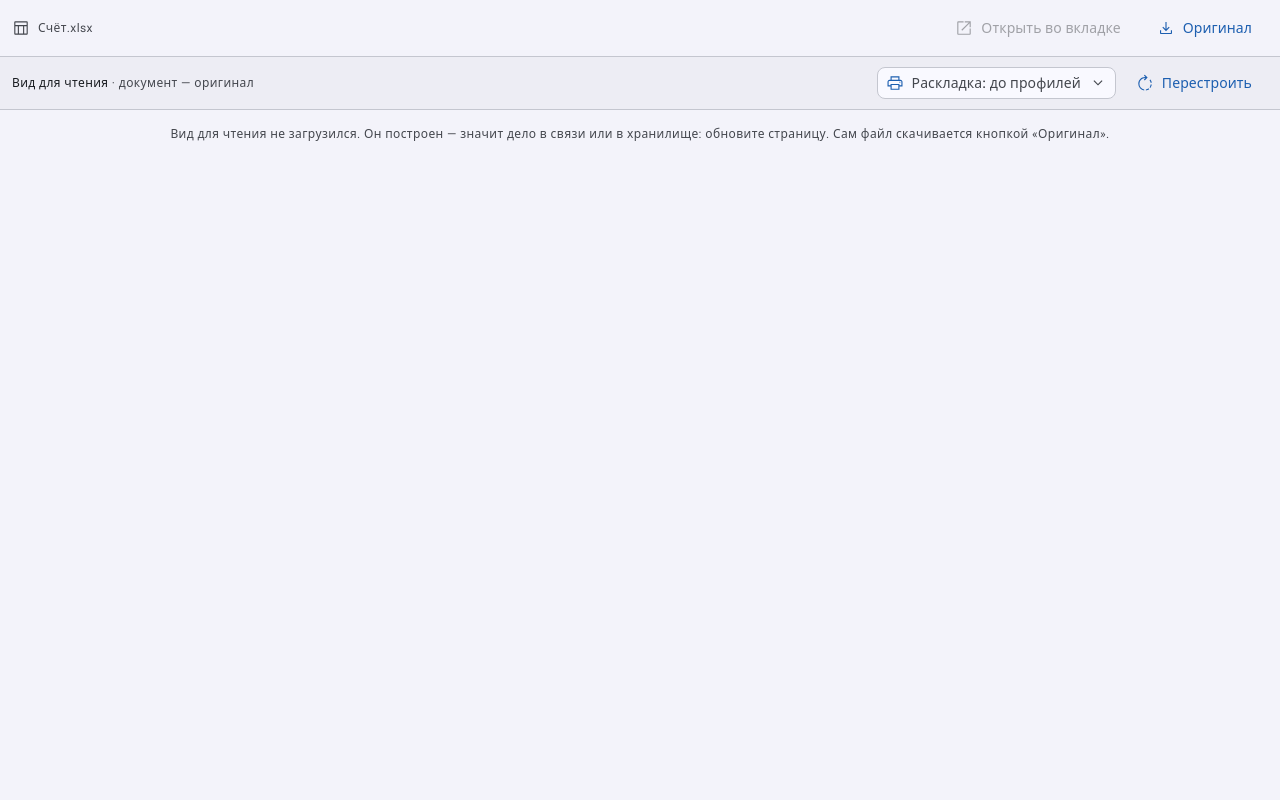
it: вид для чтения: профиль печати › состояние «none» — в подписи чипа и в окне
Click the button with test id "layout-chip". click: (996, 83)
box: [877,67,1116,99]
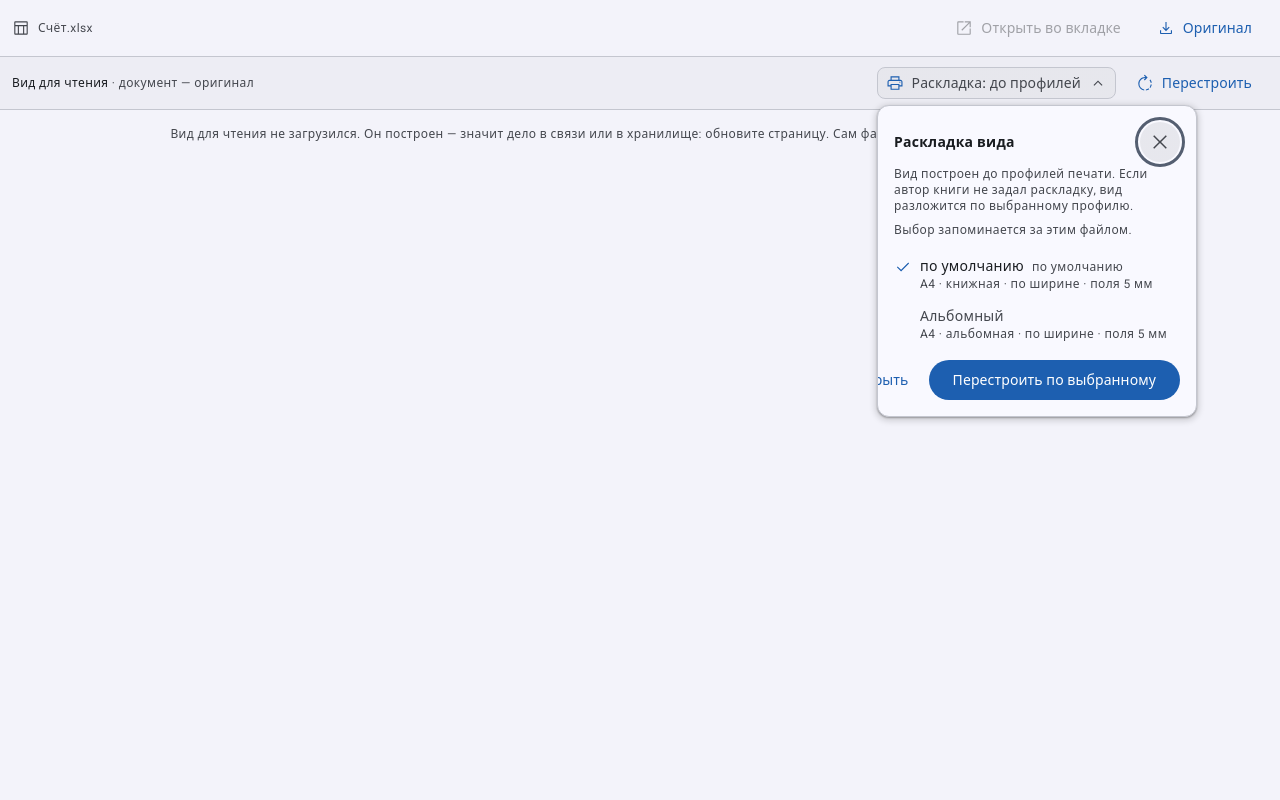
Check: the element with test id "layout-notice" does not show "Перестроить"
Check: the text with test id "layout-notice" shows "Вид построен до профилей печати", box [894,167,1148,213]
